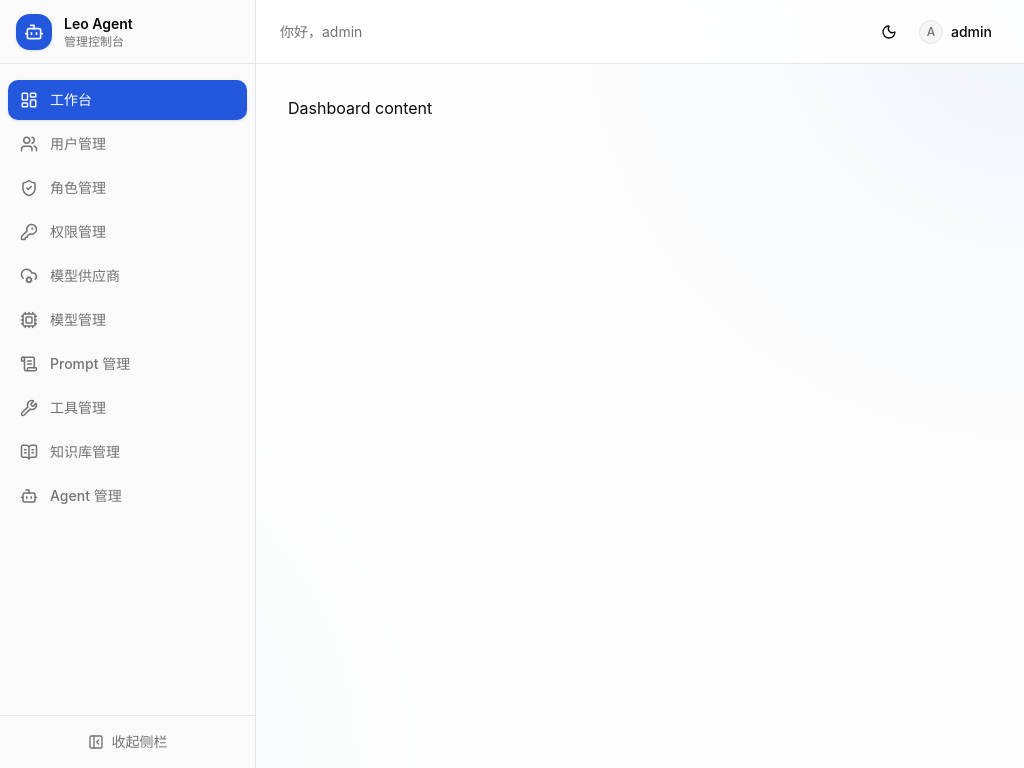
DashboardShell › opens the account menu without rendering or hydration errors
Click the button "A admin": (956, 32) [911,12,1000,52]
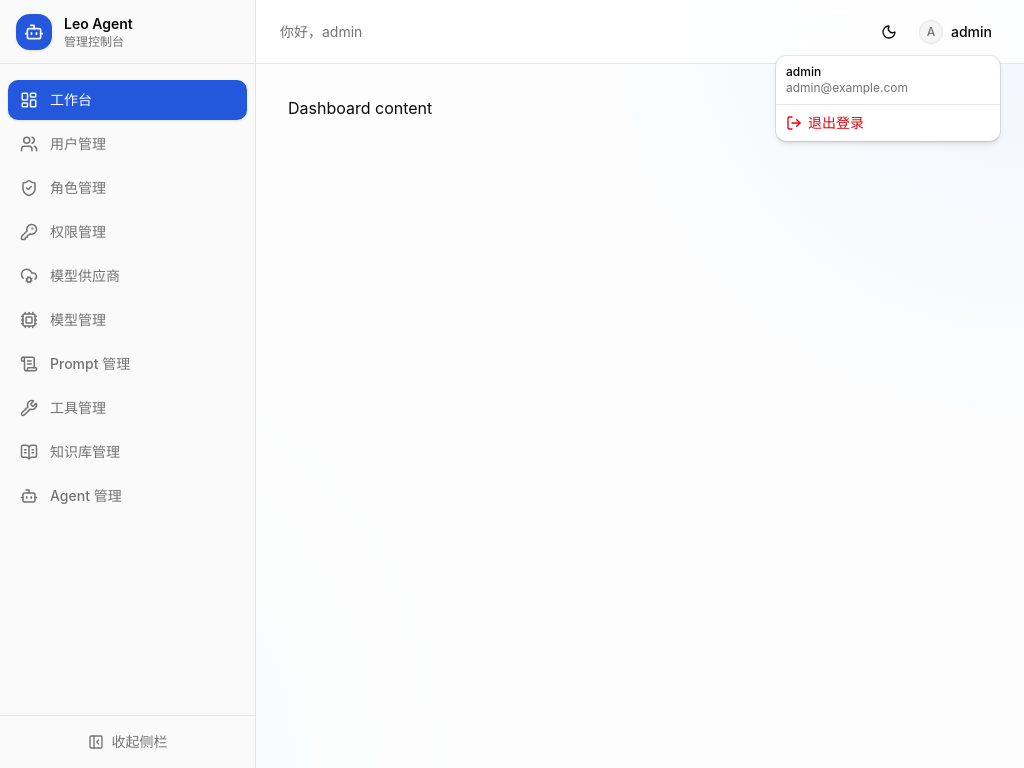
Now the text "admin@example.com" is shown, box [786,80,908,95]
